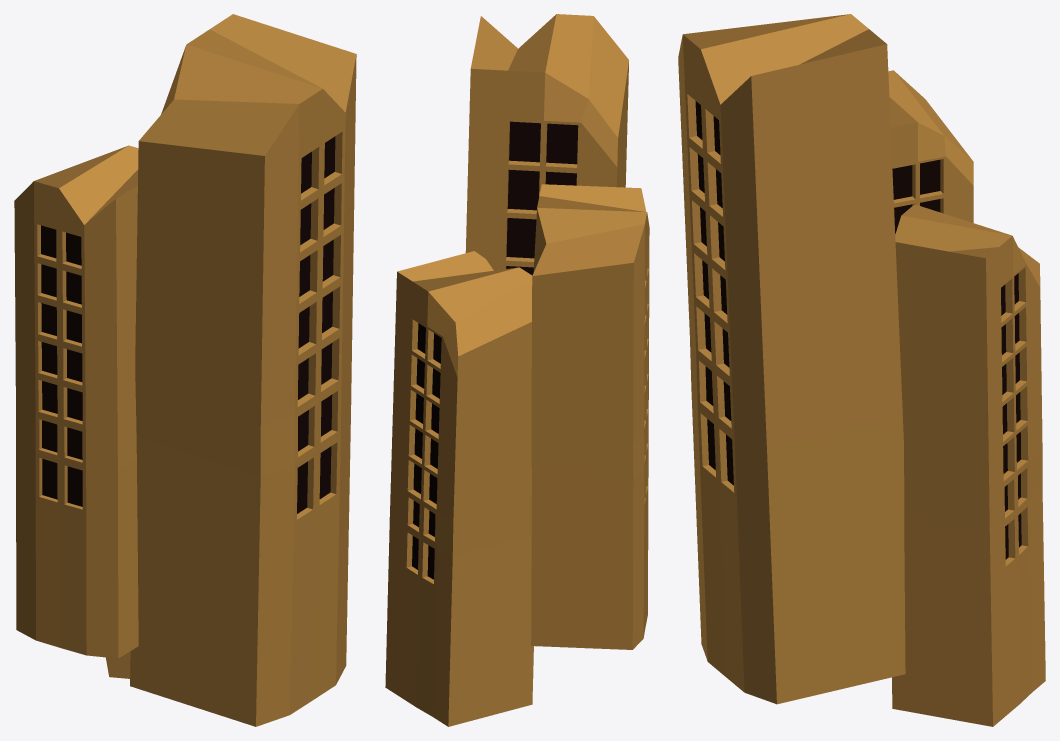
File: Obstaculo6.fbx
3 views of the same model, side by side, from view 1: azimuth 30°, elevation 25°; view 2: azimuth 150°, elevation 25°; view 3: azimuth 270°, elevation 25° (orthographic). The views are drawn at different scales.
Parts seen in each view (by area): view 1: Obstaculo6; view 2: Obstaculo6; view 3: Obstaculo6.
Boxes of the visible parts, x1,y1,x2,y2 form: Obstaculo6: [14, 14, 356, 726]; Obstaculo6: [385, 14, 649, 726]; Obstaculo6: [678, 14, 1045, 726].
Size of the model in its own units: 1127 by 2753 by 1379.
